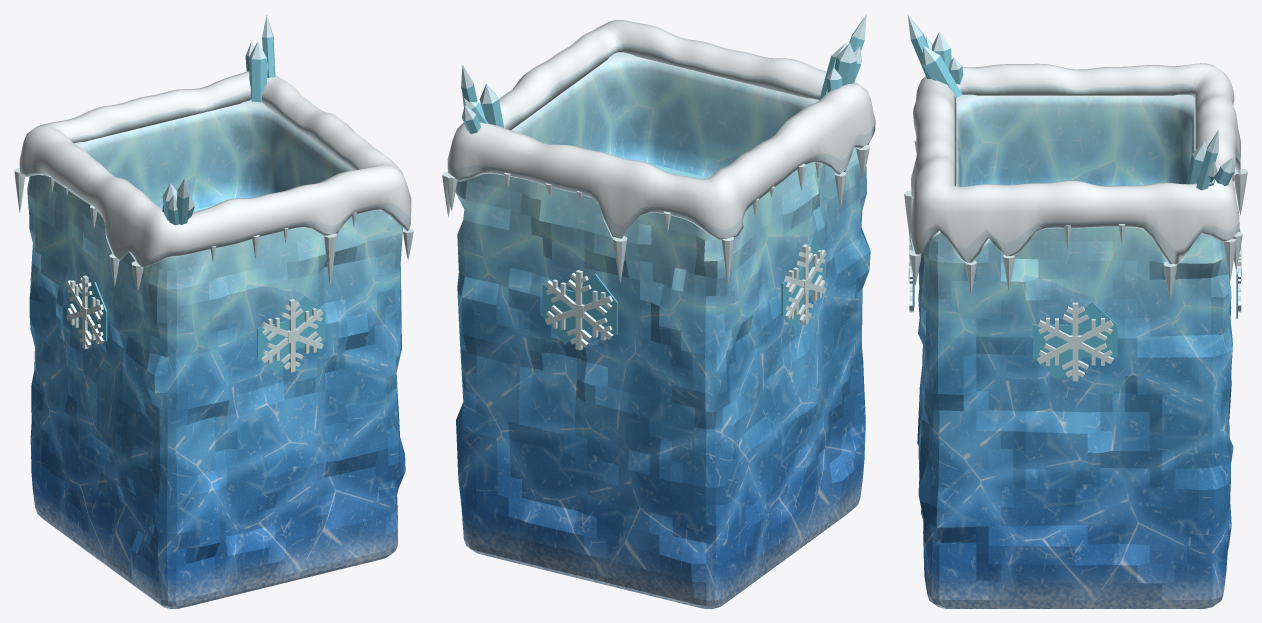
Rendered from SM_IcePit.fbx.
3 renders of one model, left to right at view 1: azimuth 30°, elevation 25°; view 2: azimuth 150°, elevation 25°; view 3: azimuth 270°, elevation 25°, orthographic. The views are drawn at different scales.
Parts seen in each view (by area): view 1: SM_IcePit, SM_IcePit_Snow, SM_IcePit_Ice; view 2: SM_IcePit, SM_IcePit_Snow, SM_IcePit_Ice; view 3: SM_IcePit, SM_IcePit_Snow, SM_IcePit_Ice.
Part boxes in pixels (x1,y1,x2,y2): SM_IcePit: [27, 100, 405, 608]; SM_IcePit_Snow: [19, 71, 411, 268]; SM_IcePit_Ice: [14, 14, 413, 374]; SM_IcePit: [455, 52, 870, 608]; SM_IcePit_Snow: [447, 20, 875, 240]; SM_IcePit_Ice: [442, 14, 869, 350]; SM_IcePit: [917, 94, 1233, 608]; SM_IcePit_Snow: [910, 63, 1240, 264]; SM_IcePit_Ice: [904, 14, 1247, 381].
Bounding box in the file's own units: 2.31 × 3.57 × 2.31.
3 materials, 3 textured.
